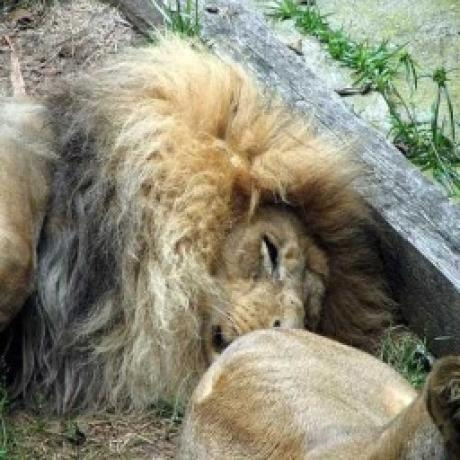Lion: (0, 39, 399, 417)
